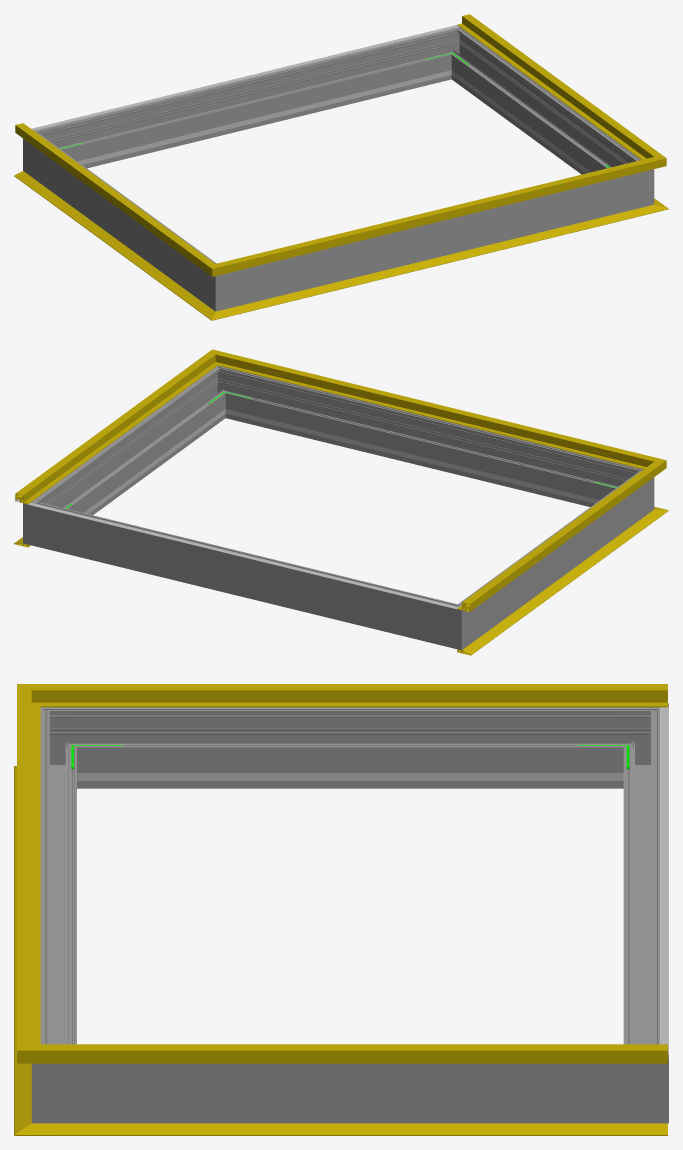
3 views of the same model, one above another, from view 1: azimuth 30°, elevation 25°; view 2: azimuth 150°, elevation 25°; view 3: azimuth 270°, elevation 25° (orthographic). The views are drawn at different scales.
Parts seen in each view (by area): view 1: 3DGeom-276, 3DGeom-298, 3DGeom-297, 3DGeom-268, 3DGeom-123, 3DGeom-128, 3DGeom-28, 3DGeom-118, 3DGeom-38, 3DGeom-244, 3DGeom-270, 3DGeom-220 (+6 smaller); view 2: 3DGeom-298, 3DGeom-276, 3DGeom-297, 3DGeom-123, 3DGeom-268, 3DGeom-128, 3DGeom-118, 3DGeom-38, 3DGeom-278, 3DGeom-239, 3DGeom-220, 3DGeom-284 (+5 smaller); view 3: 3DGeom-268, 3DGeom-297, 3DGeom-118, 3DGeom-128, 3DGeom-298, 3DGeom-276, 3DGeom-30, 3DGeom-123, 3DGeom-232, 3DGeom-290, 3DGeom-284, 3DGeom-220 (+6 smaller).
Part boxes in pixels (x1,y1,x2,y2): 3DGeom-276: (54,32,446,168); 3DGeom-298: (244,176,625,304); 3DGeom-297: (454,37,632,174); 3DGeom-268: (39,140,208,298); 3DGeom-123: (236,162,637,269); 3DGeom-128: (457,14,649,156); 3DGeom-28: (235,209,640,313); 3DGeom-118: (15,123,202,264); 3DGeom-38: (14,171,203,308); 3DGeom-244: (88,77,423,163); 3DGeom-270: (199,257,244,311); 3DGeom-220: (31,25,459,130); 3DGeom-298: (230,371,622,506); 3DGeom-276: (51,506,438,643); 3DGeom-297: (44,376,222,514); 3DGeom-123: (233,356,637,466); 3DGeom-268: (469,479,637,637); 3DGeom-128: (15,361,208,504); 3DGeom-118: (457,470,649,611); 3DGeom-38: (457,517,652,655); 3DGeom-278: (433,596,478,650); 3DGeom-239: (253,415,589,501); 3DGeom-220: (27,502,458,609); 3DGeom-284: (23,492,56,550); 3DGeom-268: (86,707,614,788); 3DGeom-297: (86,1063,614,1123); 3DGeom-118: (71,684,667,707); 3DGeom-128: (71,1044,667,1063); 3DGeom-298: (40,726,76,1044); 3DGeom-276: (623,726,659,1044); 3DGeom-30: (68,1123,667,1135); 3DGeom-123: (17,707,40,1039); 3DGeom-232: (129,773,570,780); 3DGeom-290: (31,1034,86,1123); 3DGeom-284: (614,1034,668,1123); 3DGeom-220: (660,706,668,1054).
Size of the model in its own units: 2.44 by 0.2596 by 1.83.
